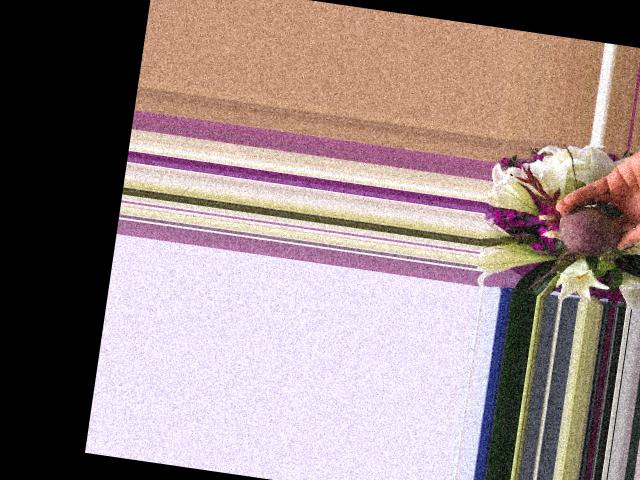beet: (525, 192, 625, 303)
